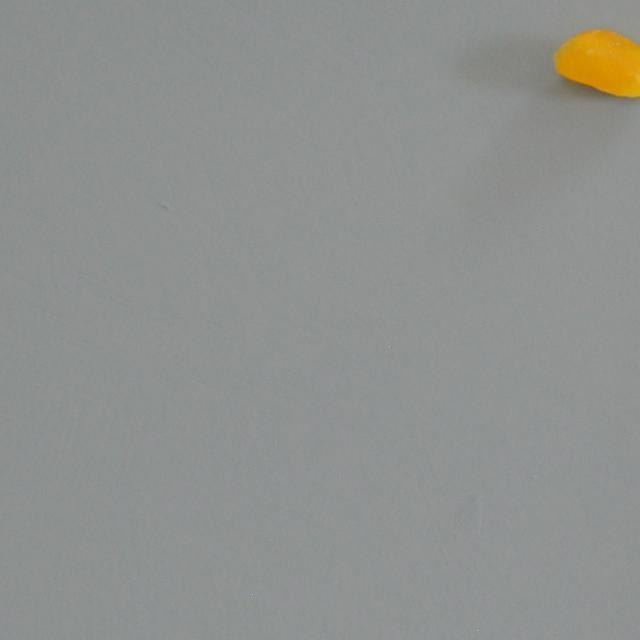estandar: (543, 14, 640, 97)
